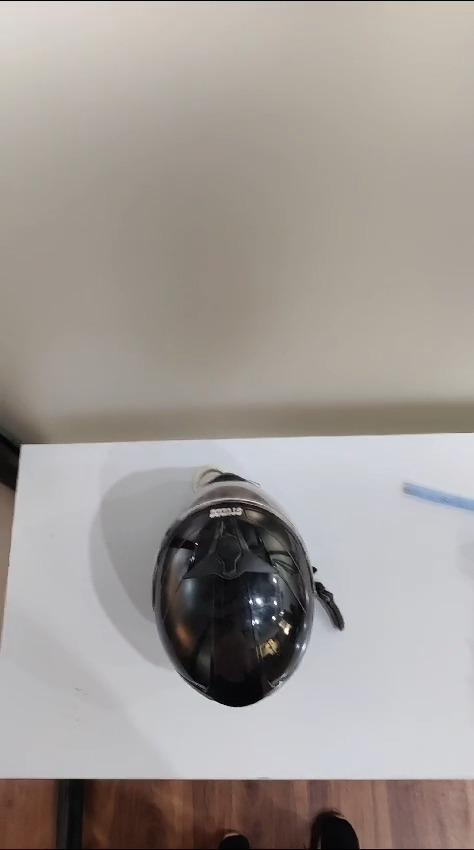Helmet: (153, 468, 343, 707)
